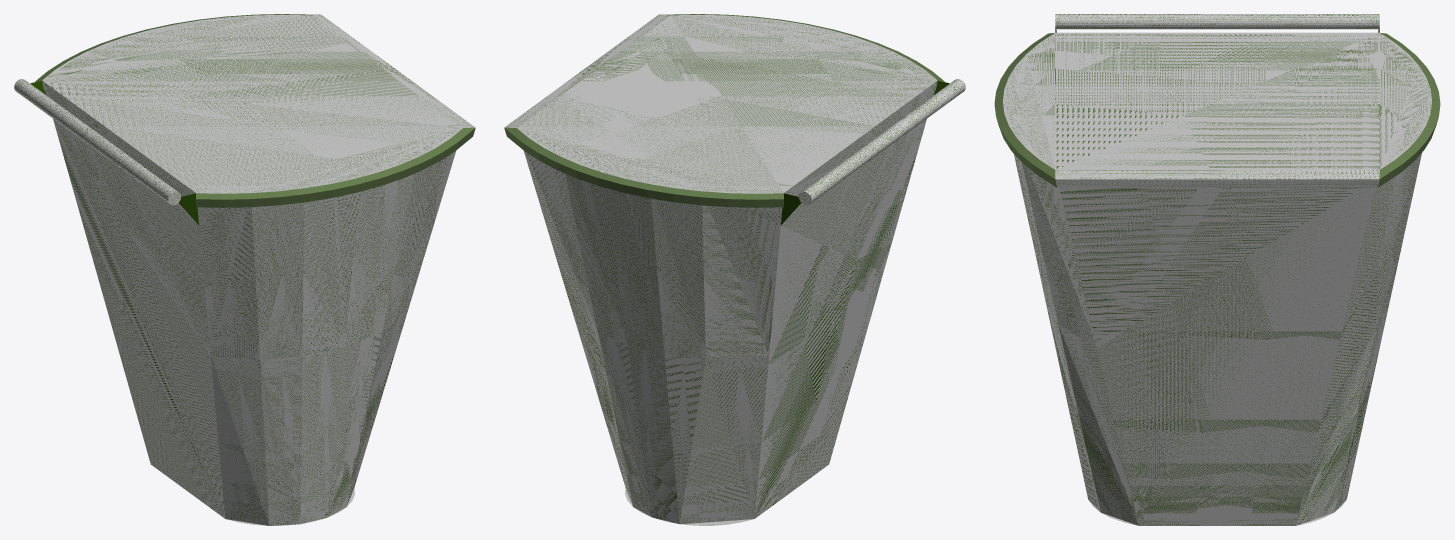
3 renders of one model, left to right at view 1: azimuth 30°, elevation 25°; view 2: azimuth 150°, elevation 25°; view 3: azimuth 270°, elevation 25°, orthographic. The views are drawn at different scales.
Parts seen in each view (by area): view 1: mesh4.001_mesh4-geometry; view 2: mesh4.001_mesh4-geometry; view 3: mesh4.001_mesh4-geometry.
Part boxes in pixels (x1,y1,x2,y2): mesh4.001_mesh4-geometry: (14, 14, 475, 525); mesh4.001_mesh4-geometry: (504, 14, 965, 525); mesh4.001_mesh4-geometry: (994, 14, 1440, 525).
Size of the model in its own units: 0.5128 by 0.6027 by 0.6114.
